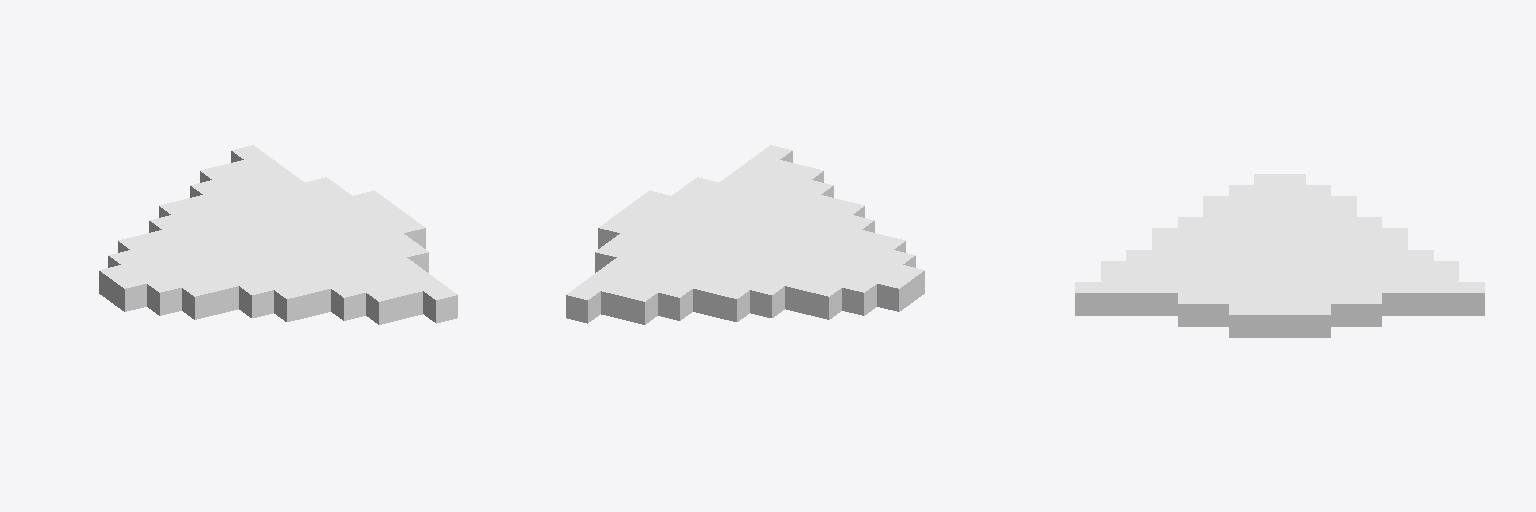
Rendered from arrowHead.obj.
3 renders of one model, left to right at view 1: azimuth 30°, elevation 25°; view 2: azimuth 150°, elevation 25°; view 3: azimuth 270°, elevation 25°, orthographic.
Parts seen in each view (by area): view 1: arrowHead; view 2: arrowHead; view 3: arrowHead.
Boxes of the visible parts, <box> form: arrowHead: <box>99,145,457,324</box>; arrowHead: <box>566,145,924,324</box>; arrowHead: <box>1075,174,1484,337</box>.
Size of the model in its own units: 13 by 1 by 16.